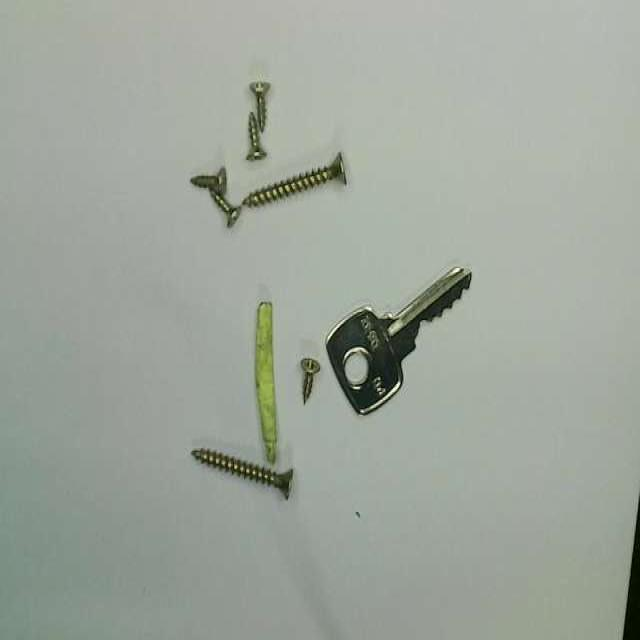Parafuso: (242, 152, 346, 206), (191, 448, 292, 499), (210, 190, 241, 227), (249, 82, 270, 131), (246, 112, 266, 161), (190, 168, 226, 194), (300, 358, 320, 403)
